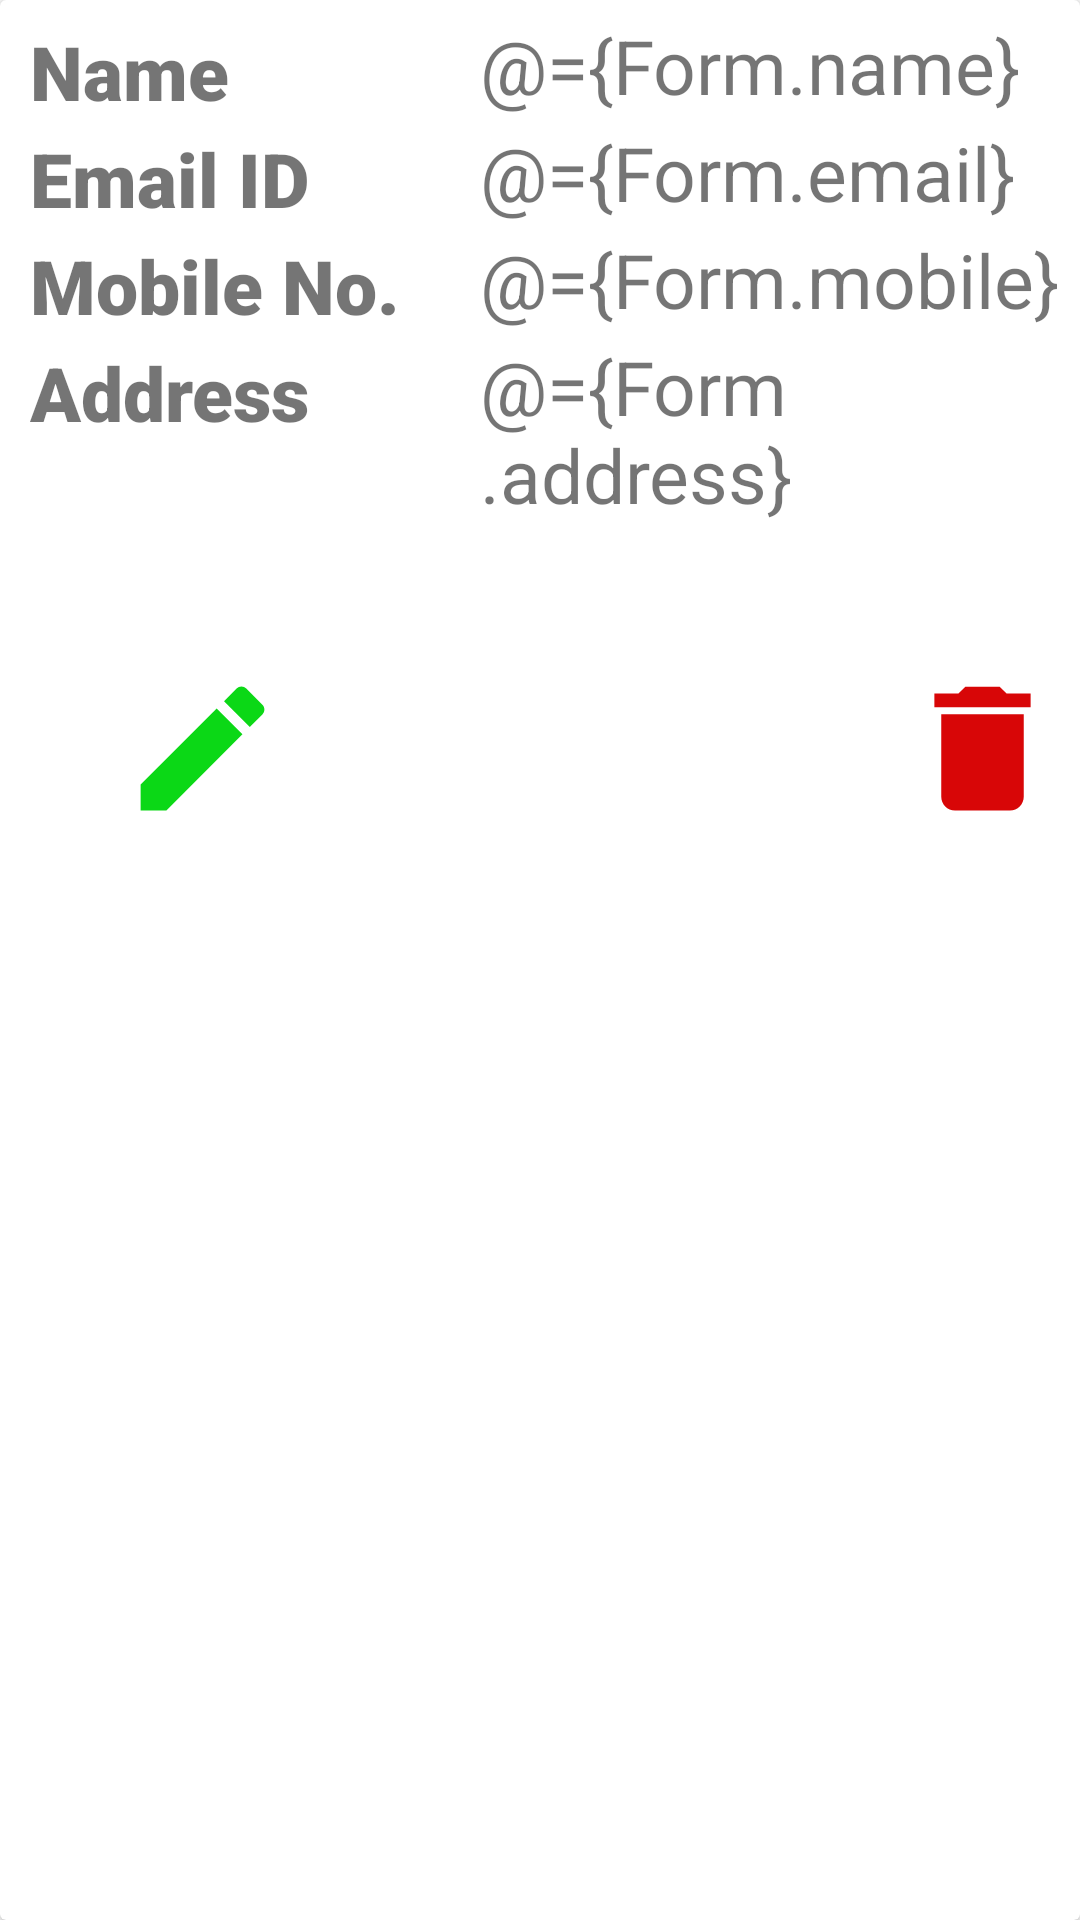

Named icons in this screenshot (1080 x 1920) and their bounding boxes, BBox(x1, y1, x2, y2):
delete: BBox(934, 686, 1031, 811)
edit: BBox(140, 686, 265, 811)
